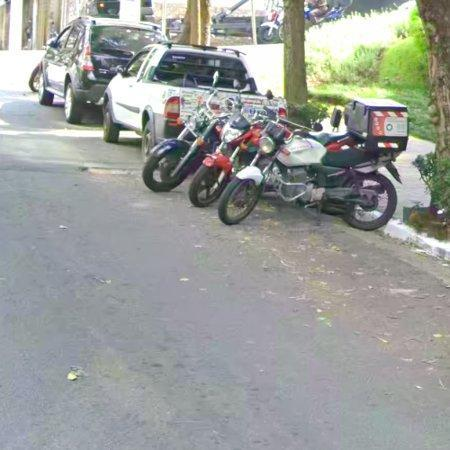motorcycles: (219, 100, 409, 230), (142, 99, 231, 192), (189, 113, 265, 207)
